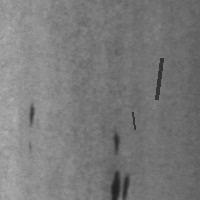inclusion: (106, 166, 132, 199), (23, 98, 39, 132), (108, 128, 123, 156), (154, 56, 163, 101), (130, 110, 136, 131)
